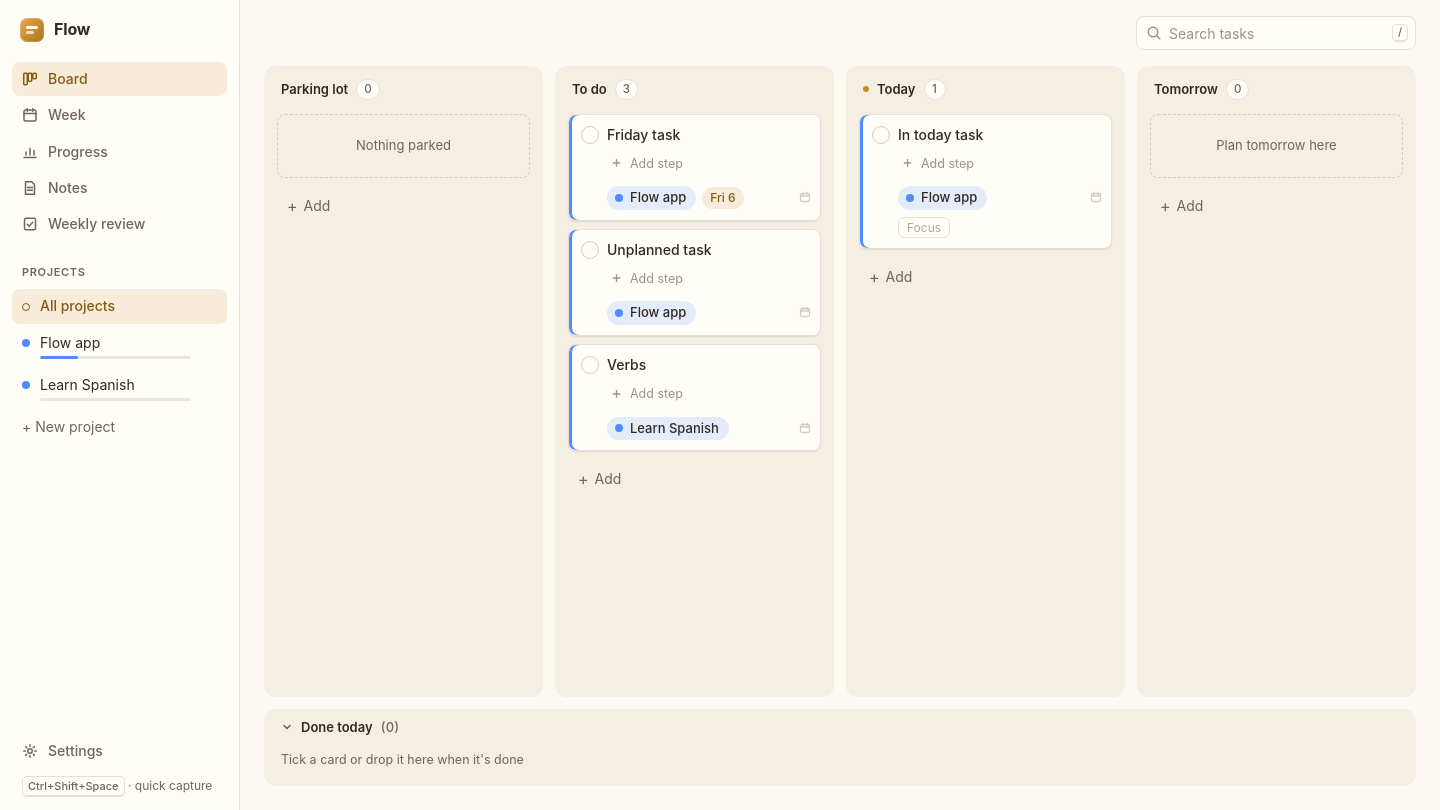
Test: WeeklyReview › Keep in Today moves a To do task to Today and shows it as kept; a Today task stays
The width and height of the screenshot is (1440, 810).
Expected: the heading "To do" is shown, [572,80,607,99]
Step 1. Type keys "r"
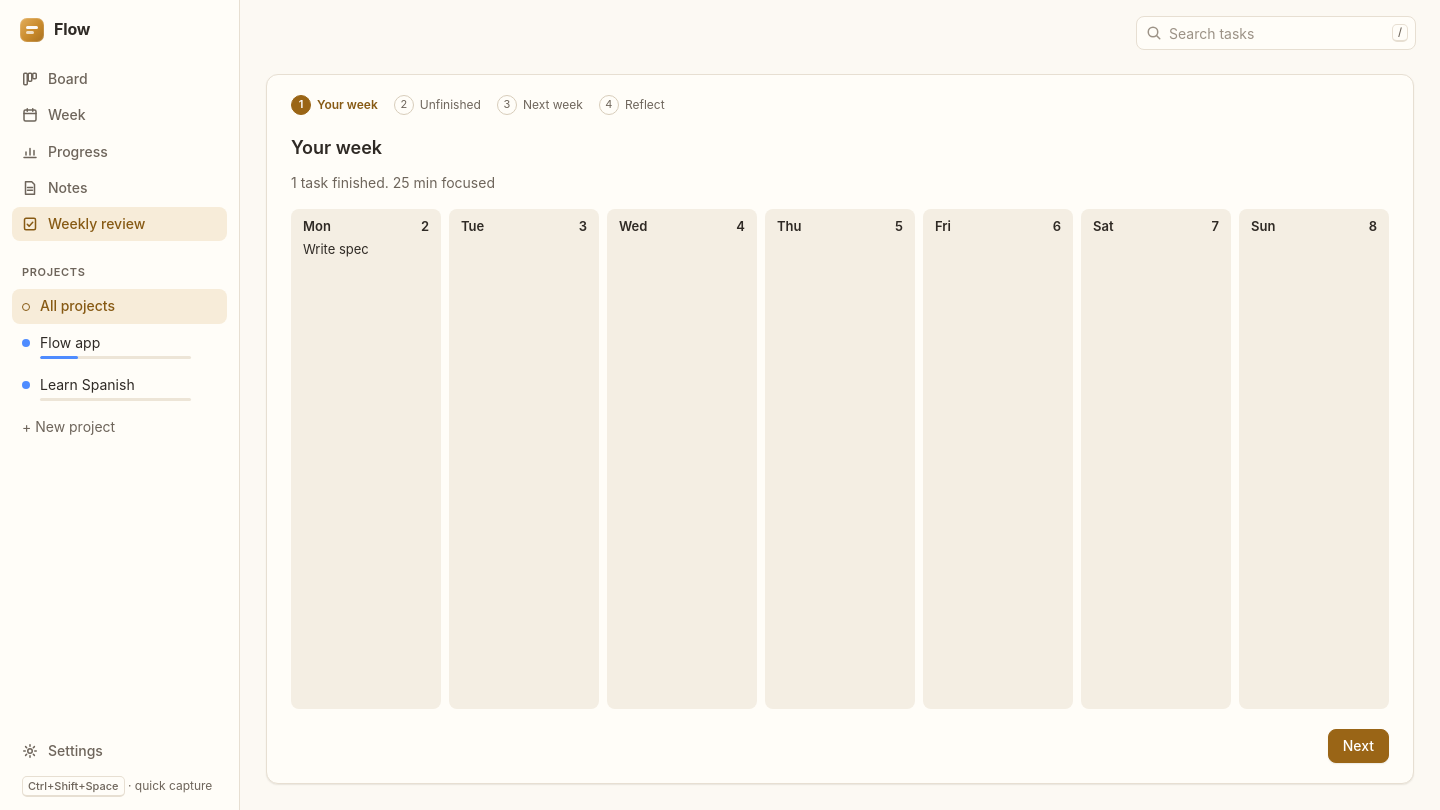
Step 2. Click the button "Next" → {"x": 1358, "y": 746}, box [1328,729,1389,763]
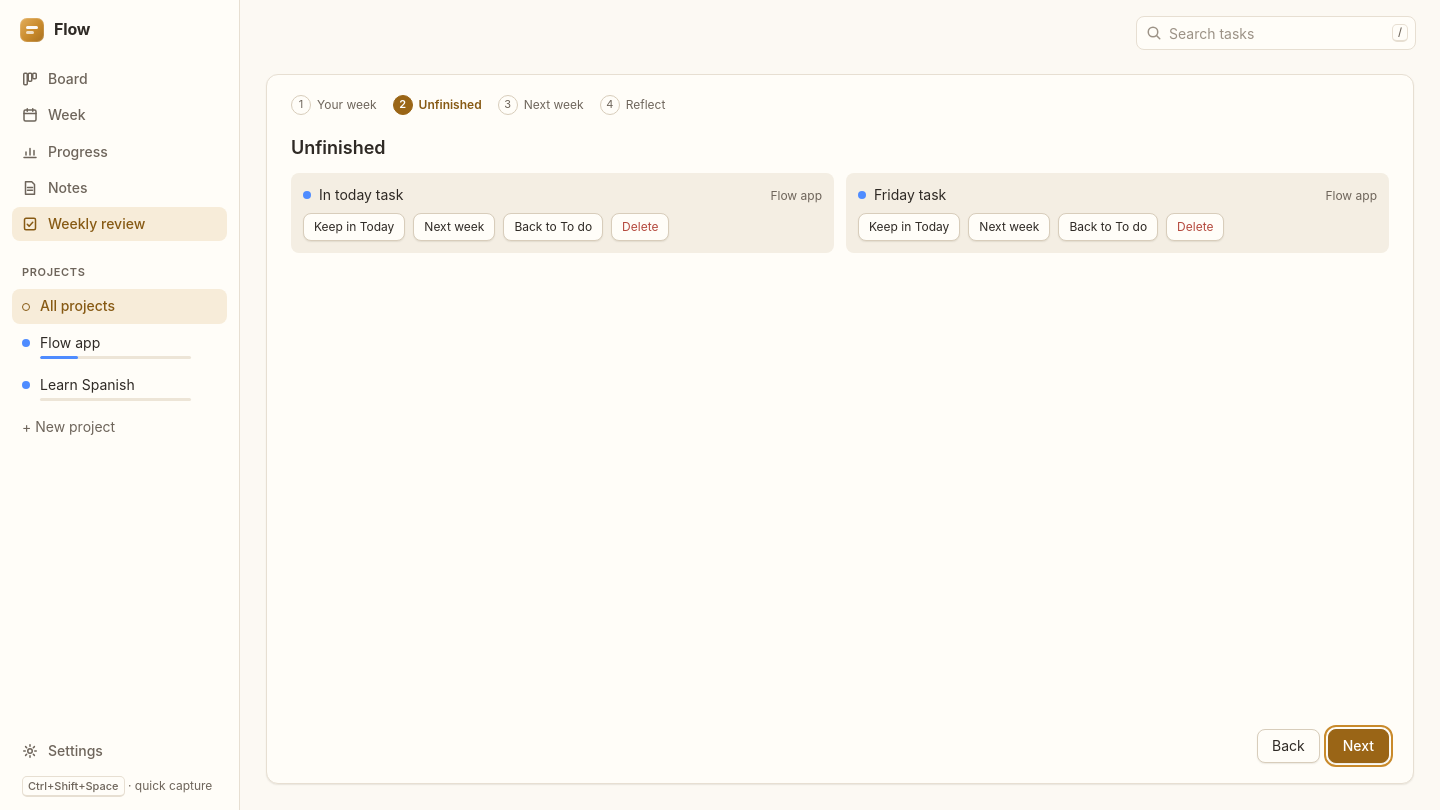
Step 3. Click the button "Keep in Today" below "Friday task" → {"x": 909, "y": 227}, box [858,213,960,241]
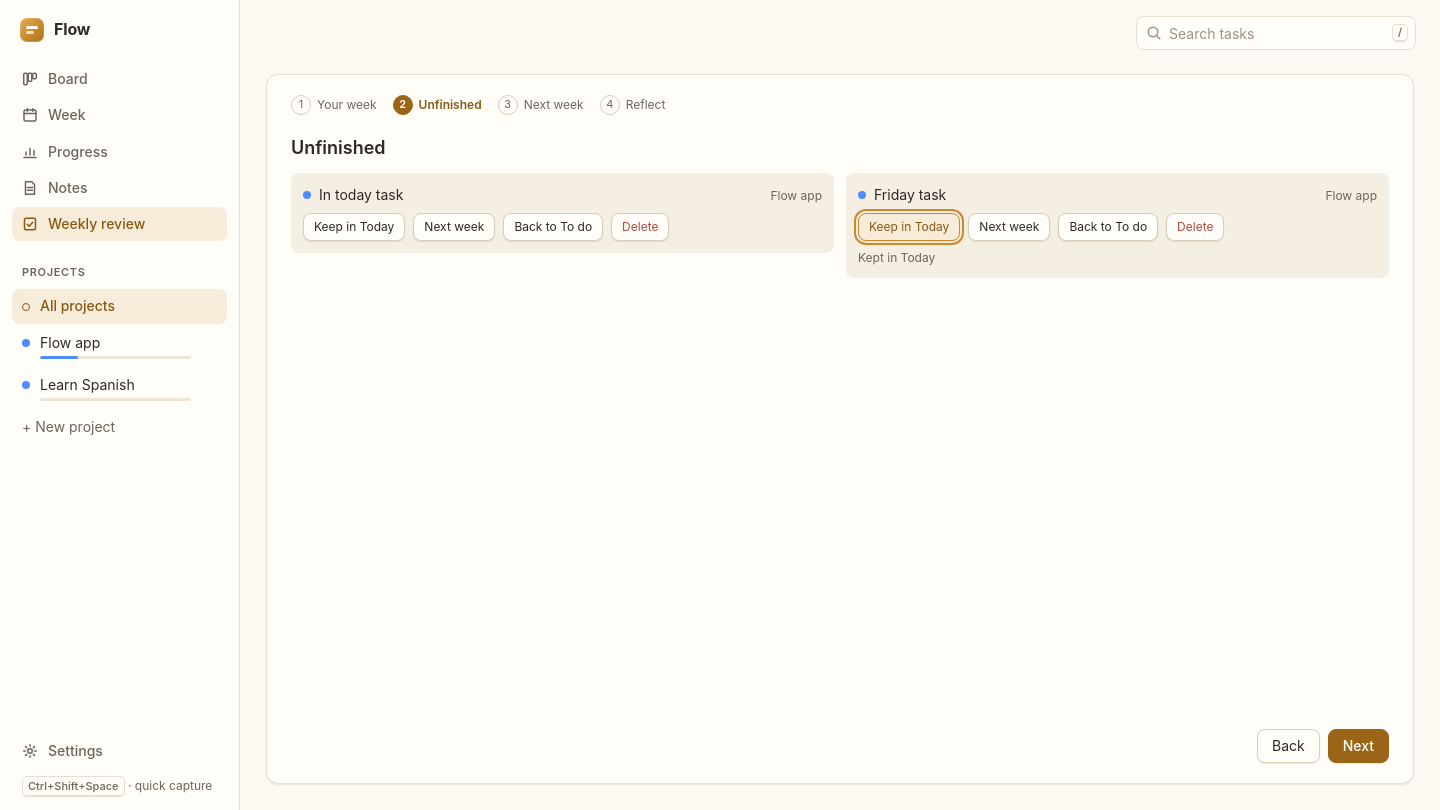
Expected: the text "Kept in Today" is shown, [858,250,935,265]
Step 4. Click the button "Keep in Today" below "In today task" → {"x": 354, "y": 227}, box [303,213,405,241]
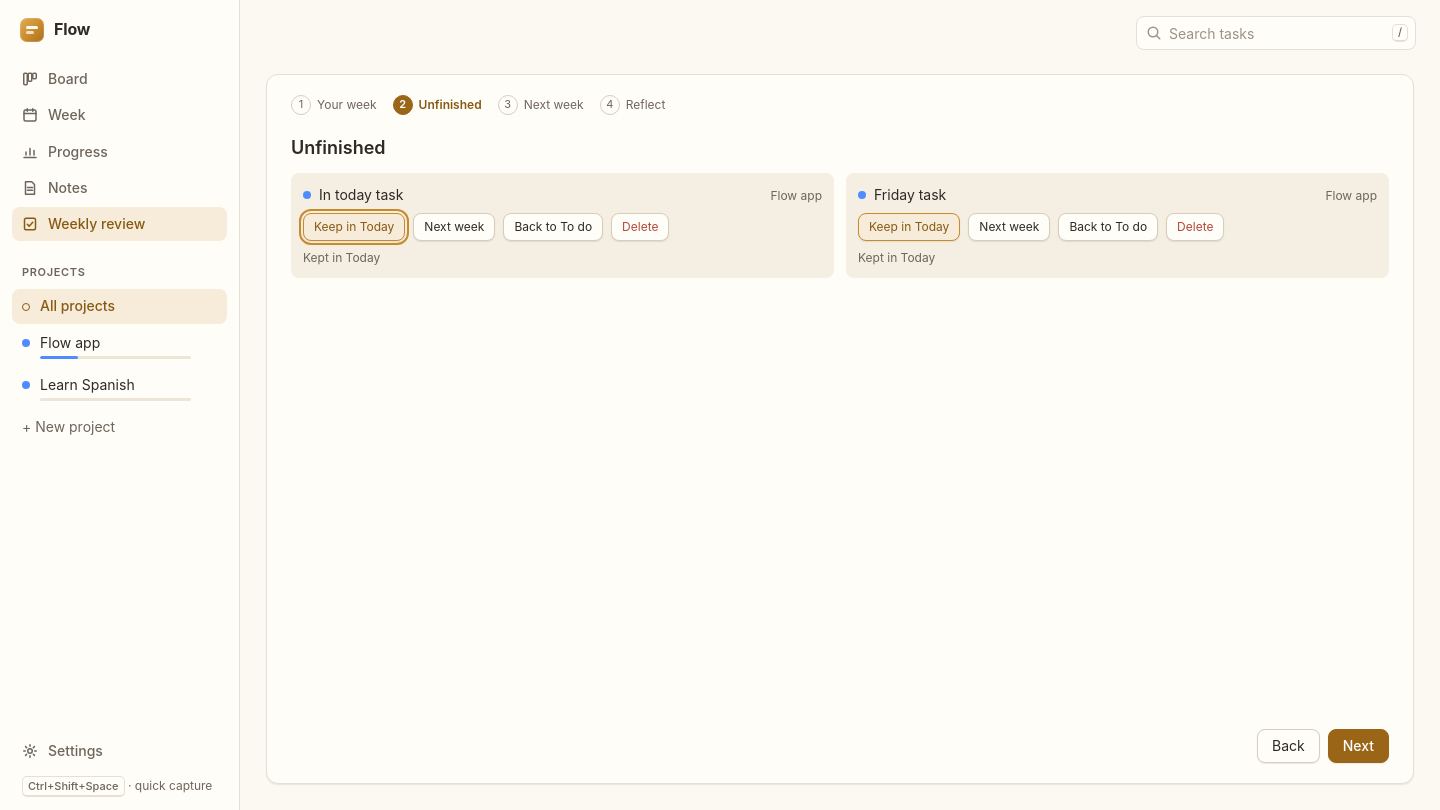
Expected: the text "Kept in Today" below "In today task" is shown, [303,250,380,265]
